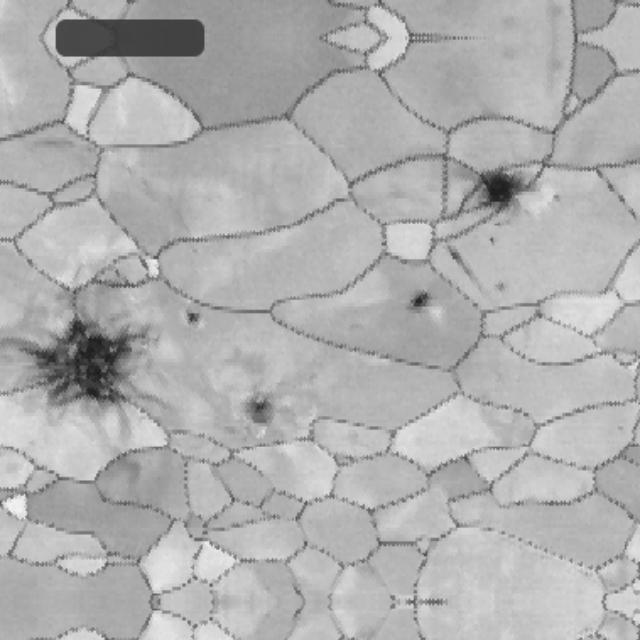good_void: (4, 308, 160, 444), (462, 170, 540, 226), (244, 399, 286, 440), (446, 244, 478, 284), (396, 286, 435, 314), (548, 190, 566, 209), (184, 312, 205, 327), (494, 276, 510, 295), (486, 232, 503, 248), (387, 592, 399, 603), (387, 603, 399, 614)
